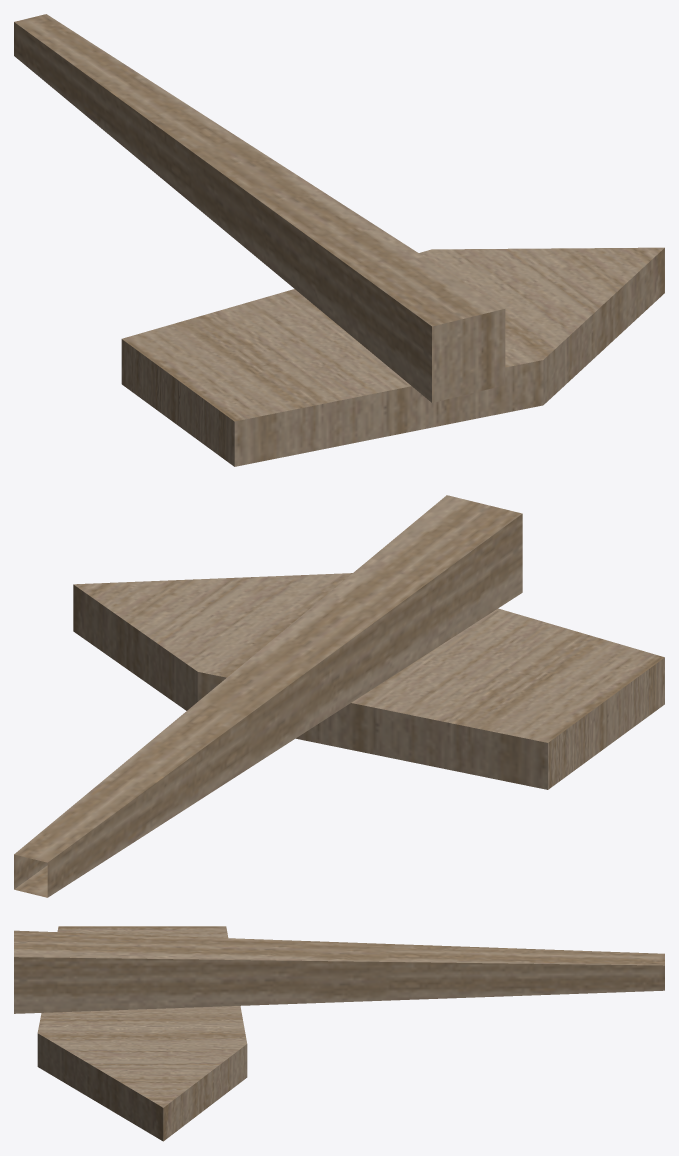
File: pointersign_wtf.obj
3 views of the same model, one above another, from view 1: azimuth 30°, elevation 25°; view 2: azimuth 150°, elevation 25°; view 3: azimuth 270°, elevation 25° (orthographic). The views are drawn at different scales.
Parts seen in each view (by area): view 1: group2; view 2: group2; view 3: group2.
Boxes of the visible parts, x1=… form: group2: x1=14, y1=14, x2=664, y2=466; group2: x1=14, y1=495, x2=664, y2=897; group2: x1=14, y1=926, x2=664, y2=1141.
Bounding box in the file's own units: 435 × 101 × 660.
